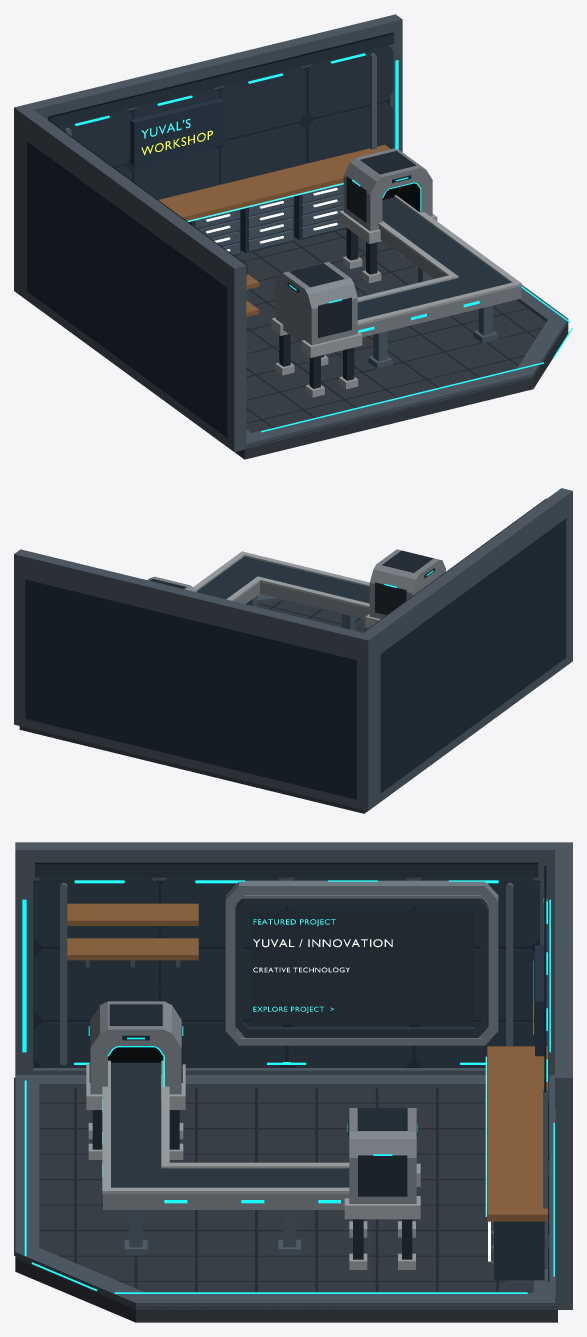
File: workshop.glb
3 renders of one model, top to bottom at view 1: azimuth 30°, elevation 25°; view 2: azimuth 150°, elevation 25°; view 3: azimuth 270°, elevation 25°, orthographic. The views are drawn at different scales.
Parts seen in each view (by area): view 1: Walls_Panel, Floor_Base, Walls_Trim, Floor_Border, Continuous wood worktop, Recessed wall panel.022, Workshop sign, Recessed wall panel.023, DotTicker_R, Recessed wall panel.018, Floor subtle square grid, Right shell (+23 smaller); view 2: Walls_Panel, Walls_Trim, Floor_Base, Animated_Belt_A, Solid chassis.001, Left shell, Animated_Belt_B, Mitered upper rim, Mitered upper rim.001, Left side recessed panel.001, Left roof recess, Left solid rear panel; view 3: Floor_Base, Walls_Trim, TV_Media_16x9, Floor_Border, Continuous wood worktop, Floor subtle square grid, TV outer chamfered chassis, TV inner stepped bezel, DotTicker_L, Recessed wall panel.004, Animated_Belt_A, Recessed wall panel.008 (+33 smaller).
Part boxes in pixels (left/top/right/bottom): Walls_Panel: left=27, top=66, right=387, bottom=437; Floor_Base: left=235, top=229, right=568, bottom=459; Walls_Trim: left=14, top=14, right=402, bottom=451; Floor_Border: left=244, top=285, right=568, bottom=448; Continuous wood worktop: left=158, top=144, right=390, bottom=220; Recessed wall panel.022: left=220, top=67, right=305, bottom=138; Workshop sign: left=130, top=98, right=224, bottom=165; Recessed wall panel.023: left=307, top=45, right=393, bottom=117; DotTicker_R: left=49, top=34, right=394, bottom=126; Recessed wall panel.018: left=220, top=124, right=305, bottom=184; Floor subtle square grid: left=242, top=231, right=568, bottom=447; Right shell: left=343, top=148, right=432, bottom=231; Walls_Panel: left=25, top=518, right=566, bottom=799; Walls_Trim: left=14, top=488, right=572, bottom=810; Floor_Base: left=19, top=600, right=368, bottom=813; Animated_Belt_A: left=245, top=556, right=369, bottom=603; Solid chassis.001: left=234, top=582, right=369, bottom=618; Left shell: left=369, top=549, right=438, bottom=618; Animated_Belt_B: left=197, top=556, right=256, bottom=599; Mitered upper rim: left=193, top=551, right=369, bottom=590; Mitered upper rim.001: left=226, top=576, right=369, bottom=608; Left side recessed panel.001: left=375, top=582, right=406, bottom=615; Left roof recess: left=382, top=550, right=433, bottom=572; Left solid rear panel: left=409, top=559, right=445, bottom=598; Floor_Base: left=15, top=1088, right=557, bottom=1322; Walls_Trim: left=15, top=842, right=572, bottom=1309; TV_Media_16x9: left=250, top=910, right=473, bottom=1024; Floor_Border: left=15, top=1075, right=557, bottom=1309; Continuous wood worktop: left=487, top=1046, right=547, bottom=1221; Floor subtle square grid: left=14, top=1077, right=557, bottom=1307; TV outer chamfered chassis: left=225, top=880, right=498, bottom=1045; TV inner stepped bezel: left=235, top=898, right=488, bottom=1037; DotTicker_L: left=35, top=864, right=538, bottom=877; Recessed wall panel.004: left=34, top=949, right=158, bottom=1019; Animated_Belt_A: left=111, top=1062, right=160, bottom=1187; Recessed wall panel.008: left=34, top=877, right=158, bottom=946.
Bounding box in the file's own units: 9.27 × 4.48 × 9.27.
